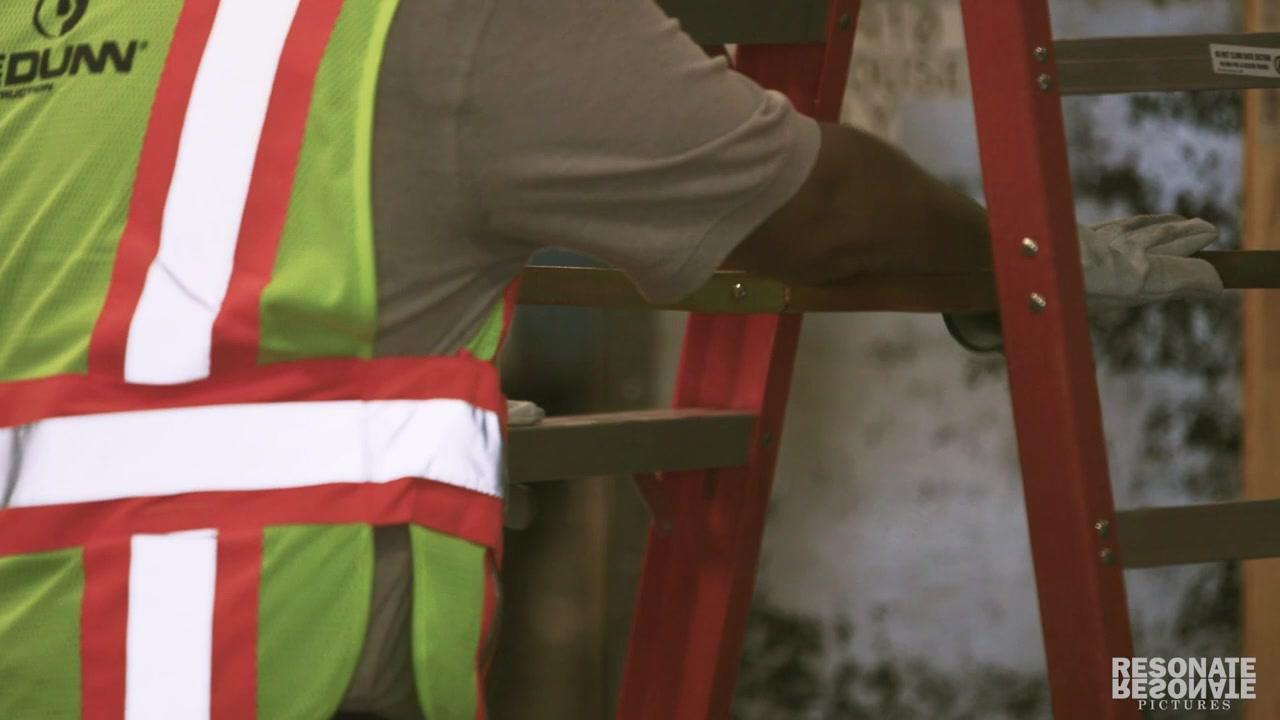vest: (0, 0, 524, 718)
